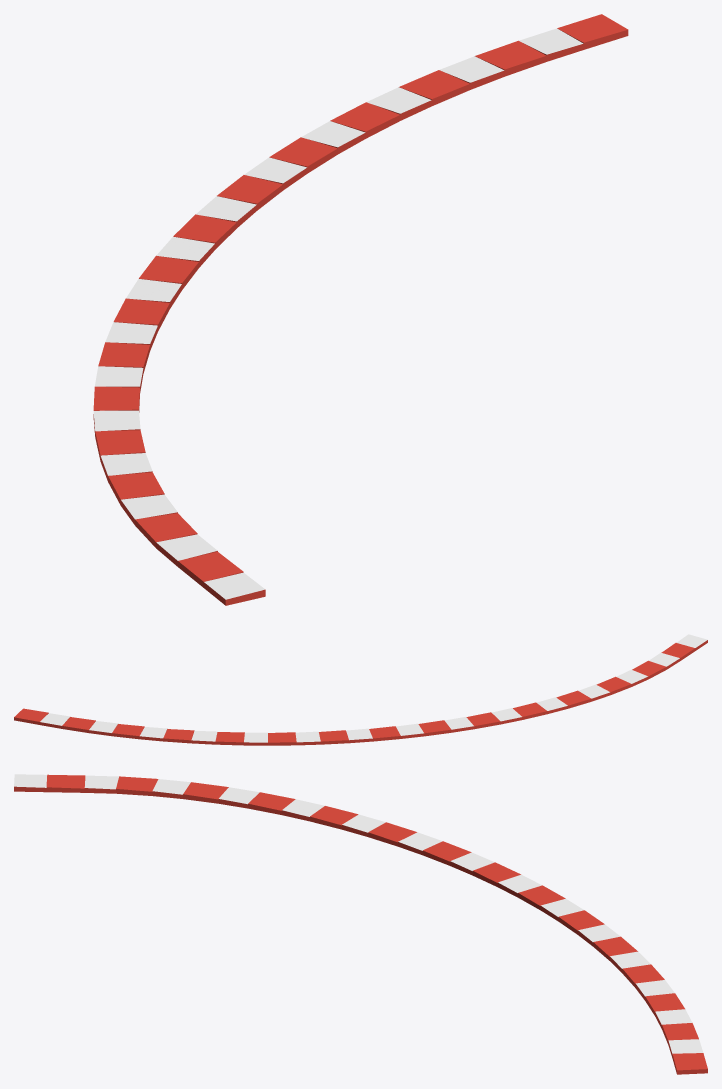
The model's file is Curbs.fbx.
3 renders of one model, top to bottom at view 1: azimuth 30°, elevation 25°; view 2: azimuth 150°, elevation 25°; view 3: azimuth 270°, elevation 25°, orthographic. The views are drawn at different scales.
Parts seen in each view (by area): view 1: Cube; view 2: Cube; view 3: Cube.
Part boxes in pixels (left/top/right/bottom): Cube: left=93, top=14, right=628, bottom=605; Cube: left=14, top=634, right=707, bottom=745; Cube: left=14, top=774, right=707, bottom=1074.
Size of the model in its own units: 5857 by 45.31 by 5800.
